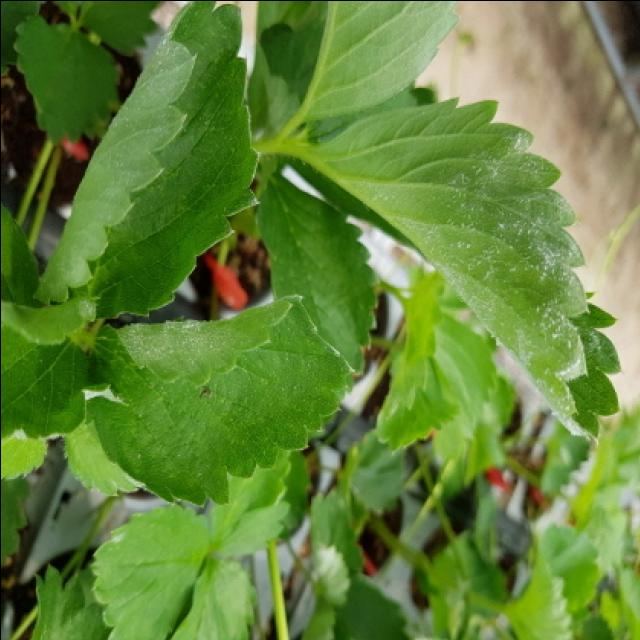Powdery Mildew Leaf: (274, 96, 623, 442), (82, 294, 356, 507), (87, 505, 209, 640)
